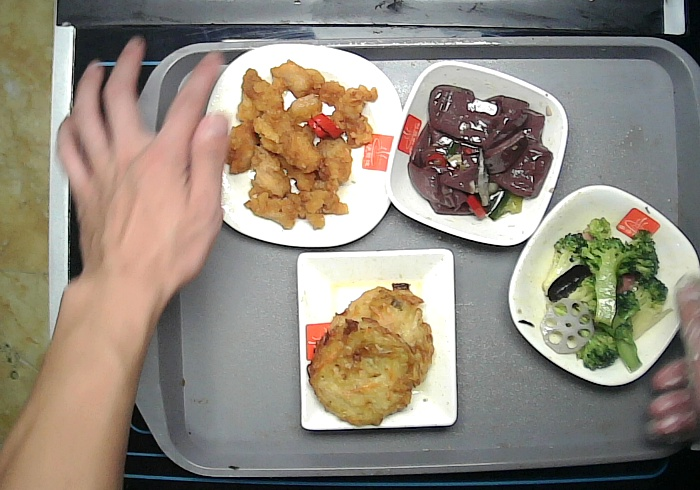SHKJ-Bai_Se_Cai_Die: (505, 183, 700, 387)
SHKJ-Bai_Se_Si_Fang_Cai_Die: (202, 42, 405, 247)
SHKJ-Bai_Se_Xiao_Fang_Die: (385, 59, 569, 248)
SHKJ-Si_Fang_Min: (295, 248, 463, 430)
